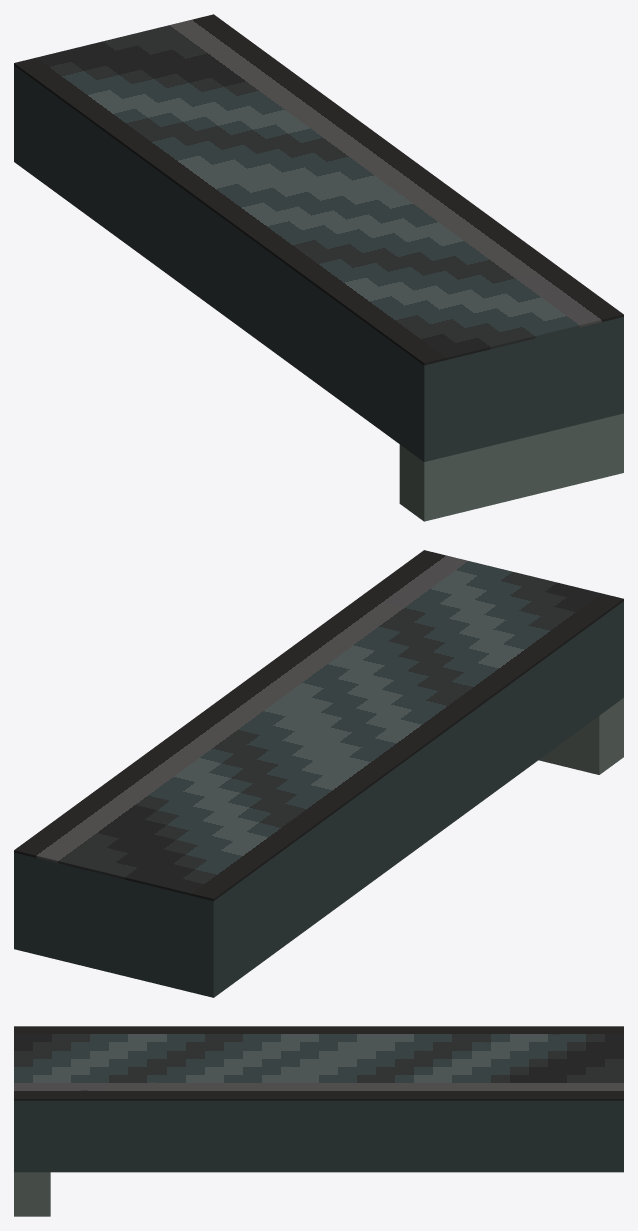
File: CMU3DInteriorVehiclePizzaVanWindshieldBottom.glb
3 renders of one model, top to bottom at view 1: azimuth 30°, elevation 25°; view 2: azimuth 150°, elevation 25°; view 3: azimuth 270°, elevation 25°, orthographic. The views are drawn at different scales.
Visible parts, largest first — view 1: overhead armor source finish, overhead armor, inner roof rib; view 2: overhead armor source finish, overhead armor, inner roof rib; view 3: overhead armor source finish, overhead armor, inner roof rib.
Part boxes in pixels (x1,y1,x2,y2): overhead armor source finish: [14, 14, 623, 365]; overhead armor: [14, 65, 623, 461]; inner roof rib: [399, 413, 623, 521]; overhead armor source finish: [14, 550, 623, 901]; overhead armor: [14, 601, 623, 997]; inner roof rib: [539, 698, 623, 774]; overhead armor source finish: [14, 1026, 623, 1100]; overhead armor: [14, 1100, 623, 1172]; inner roof rib: [14, 1172, 50, 1216].
Bounding box in the file's own units: 0.2812 × 0.213 × 1.
3 materials, 1 textured.
